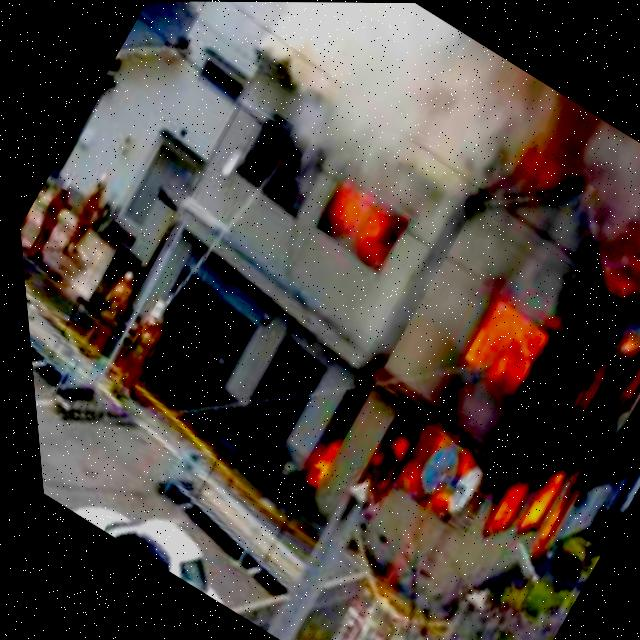Fire: (278, 187, 640, 623), (297, 170, 413, 274)
Smoke: (238, 1, 640, 316)
